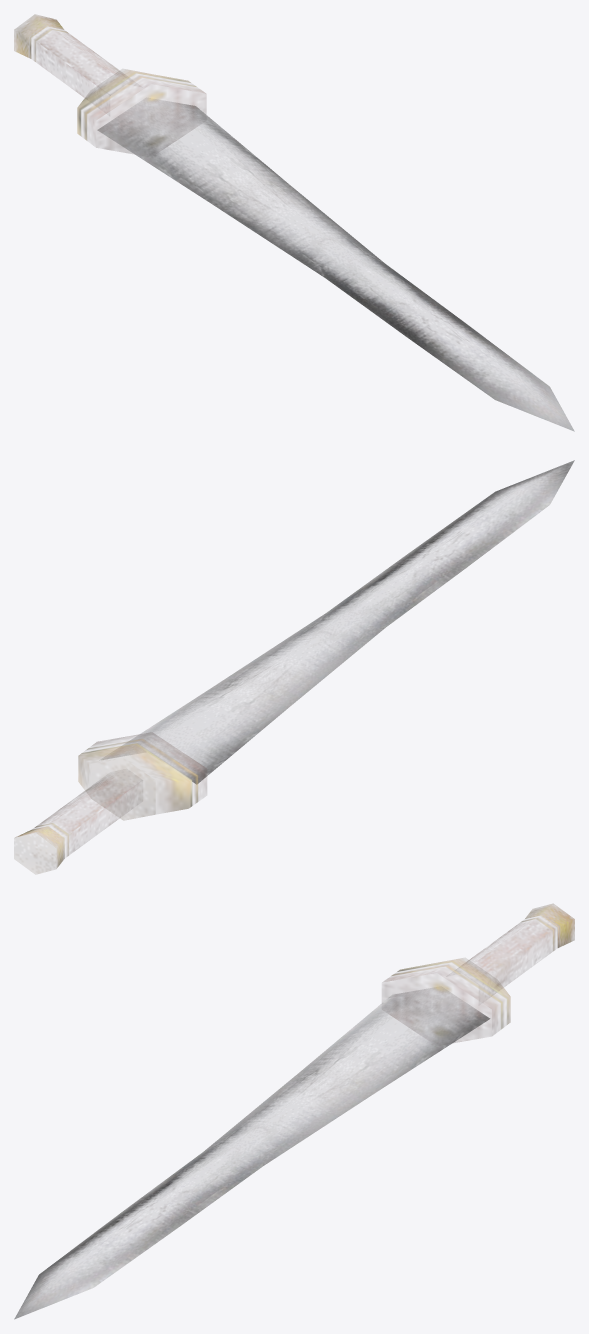
Rendered from sword_01.glb.
3 views of the same model, one above another, from view 1: azimuth 30°, elevation 25°; view 2: azimuth 150°, elevation 25°; view 3: azimuth 330°, elevation 25° (orthographic).
Parts seen in each view (by area): view 1: sword_01; view 2: sword_01; view 3: sword_01.
Part boxes in pixels (bbox=[...]): sword_01: bbox=[14, 14, 574, 431]; sword_01: bbox=[15, 460, 574, 873]; sword_01: bbox=[14, 904, 574, 1319].
Size of the model in its own units: 0.0996 by 0.0631 by 0.8424.
1 material, 1 textured.
